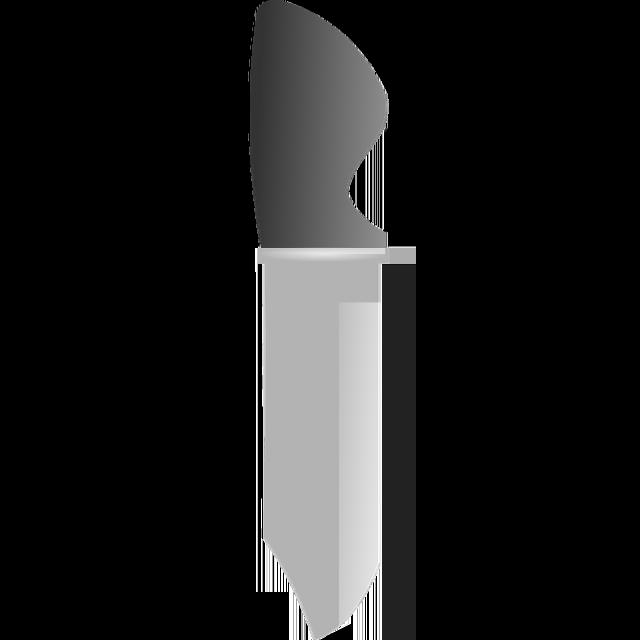Knife: (250, 0, 414, 640)
